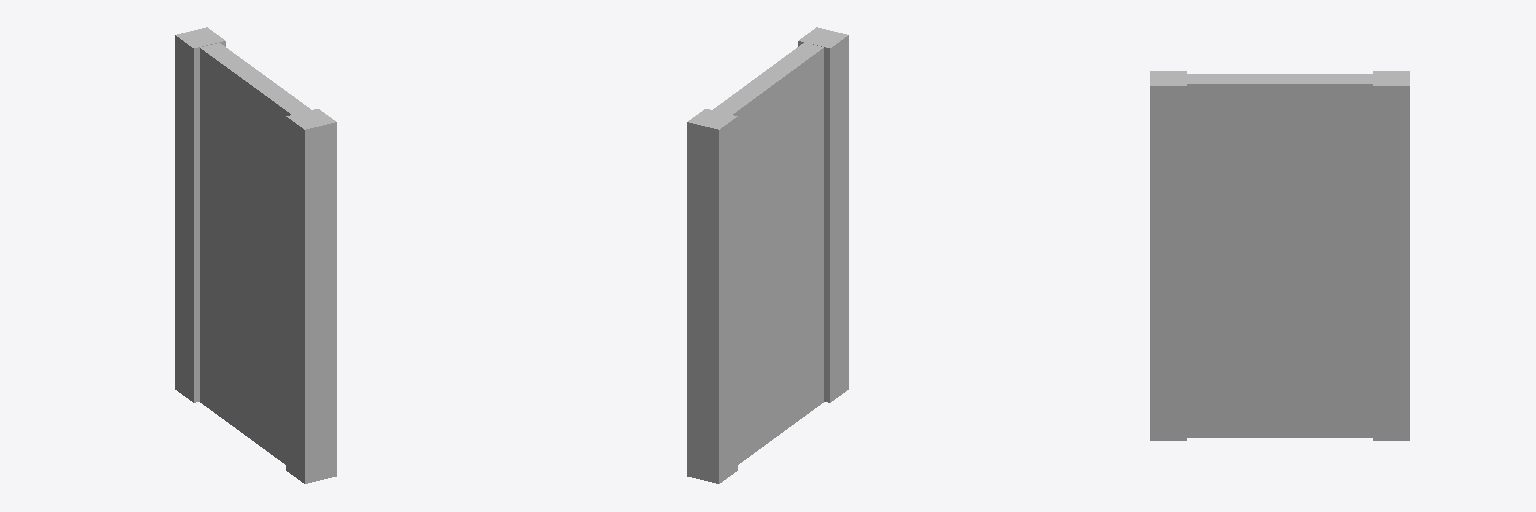
File: dungeon_wall_mid_mid.obj
The picture shows the model from 3 angles: view 1: azimuth 30°, elevation 25°; view 2: azimuth 150°, elevation 25°; view 3: azimuth 270°, elevation 25°; orthographic projection.
Visible parts, largest first — view 1: wall, pillar; view 2: wall, pillar; view 3: wall, pillar.
Boxes of the visible parts, x1=… form: wall: x1=200, y1=43, x2=310, y2=464; pillar: x1=175, y1=27, x2=336, y2=483; wall: x1=713, y1=42, x2=823, y2=464; pillar: x1=687, y1=27, x2=848, y2=483; wall: x1=1187, y1=74, x2=1372, y2=437; pillar: x1=1150, y1=71, x2=1409, y2=440.
Bounding box in the file's own units: 1 × 10.58 × 7.